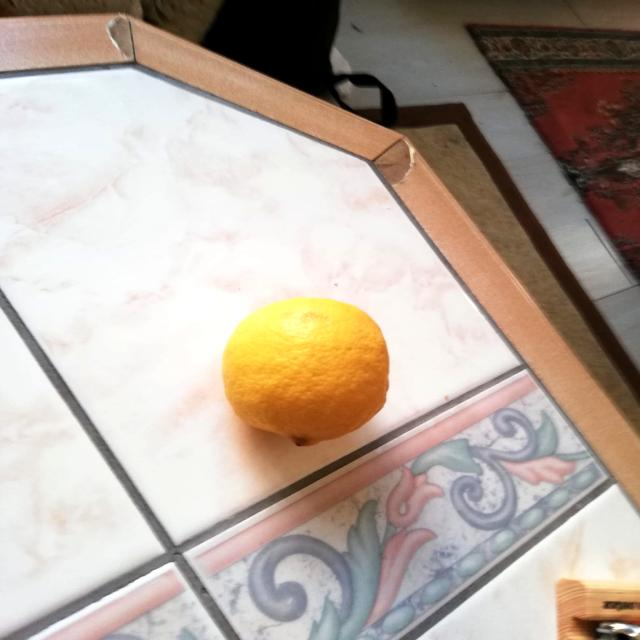lemon: (213, 284, 397, 451)
